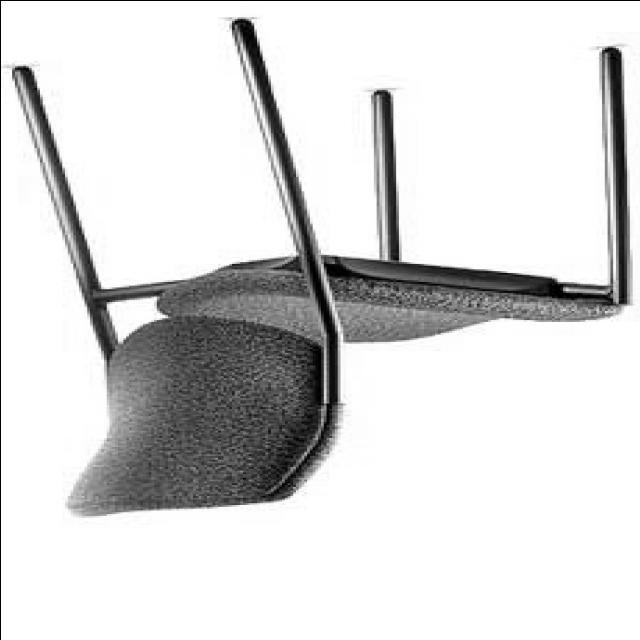chair: (7, 16, 632, 517)
